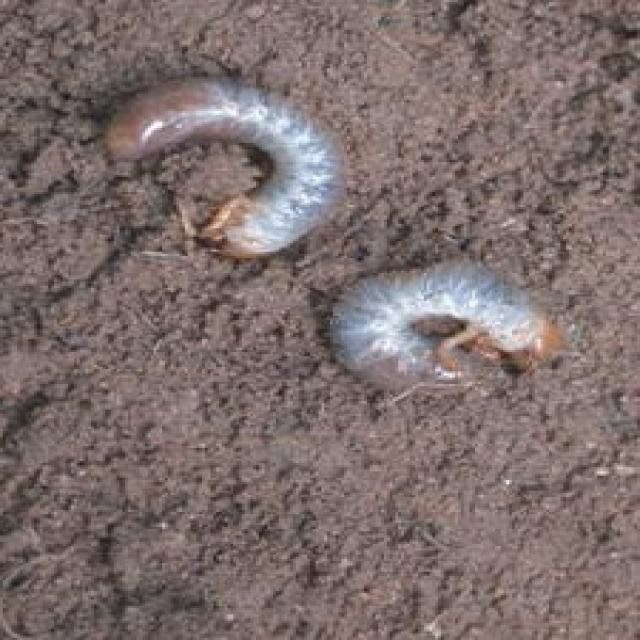grub: (106, 71, 345, 272), (320, 259, 564, 426)
